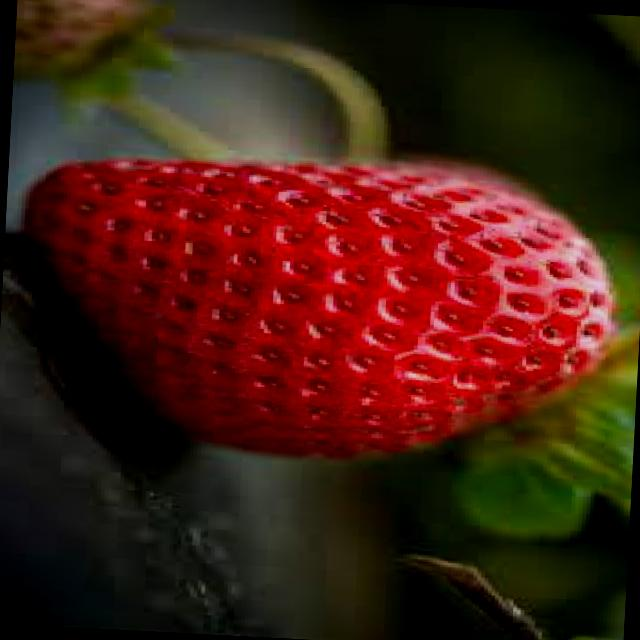tofu: (7, 126, 620, 493)
